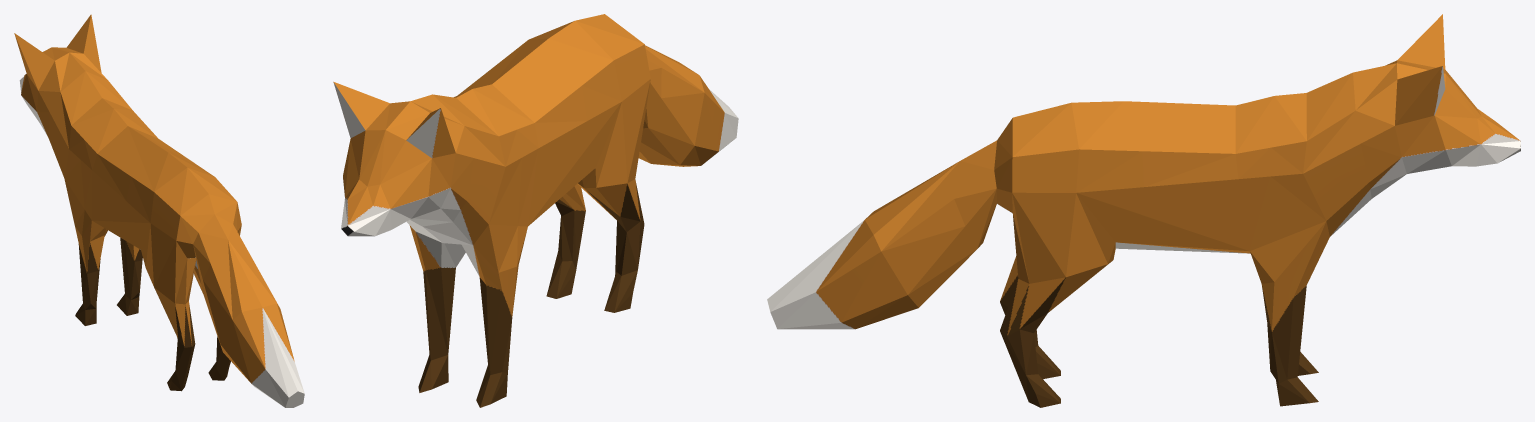
The model's file is fox.obj.
3 renders of one model, left to right at view 1: azimuth 30°, elevation 25°; view 2: azimuth 150°, elevation 25°; view 3: azimuth 270°, elevation 25°, orthographic. The views are drawn at different scales.
Visible parts, largest first — view 1: fox1; view 2: fox1; view 3: fox1.
Part boxes in pixels (x1,y1,x2,y2): fox1: (14,14,304,407); fox1: (333,14,738,407); fox1: (767,14,1520,407).
Size of the model in its own units: 5.04 by 15.81 by 30.94.
